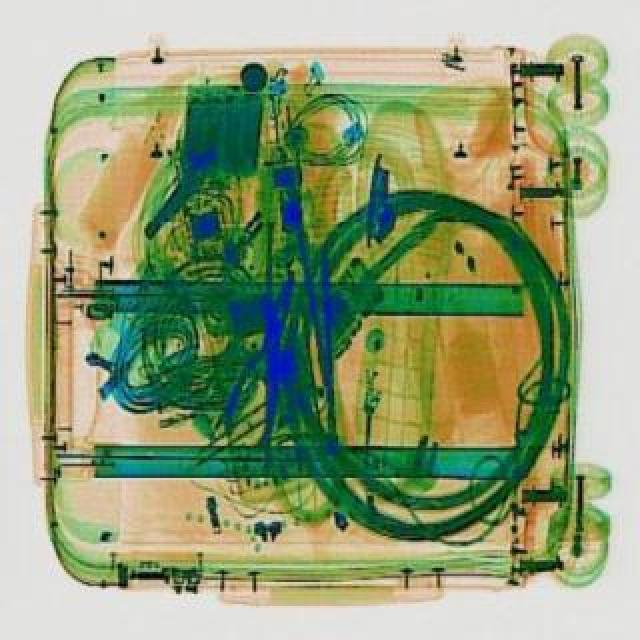wrench: (214, 268, 314, 448)
